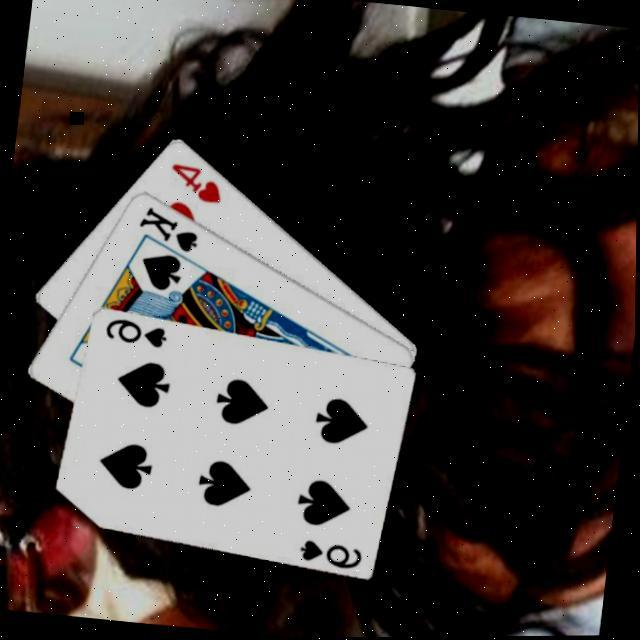4H: (163, 156, 228, 204)
6S: (100, 311, 171, 348), (295, 533, 366, 570)
KS: (133, 199, 205, 254)
